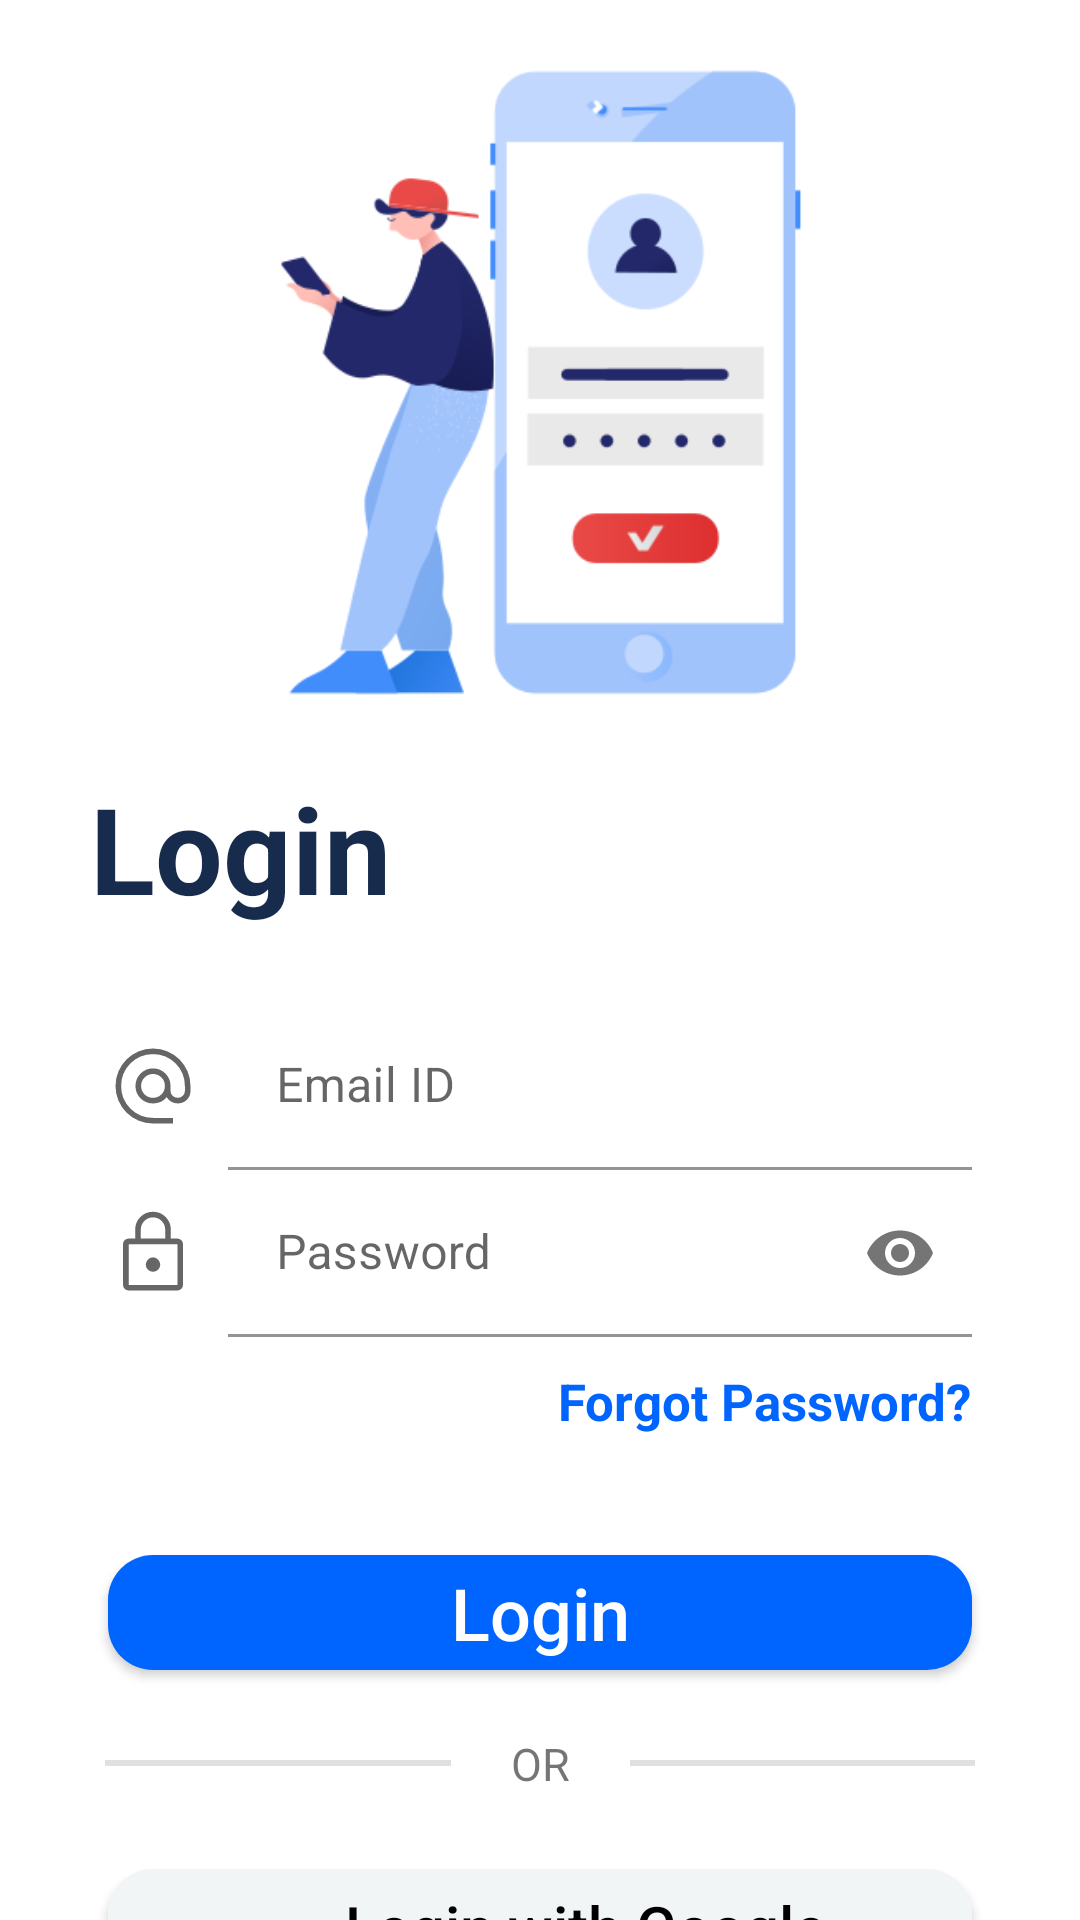

Icons on this 1080px×1920px Android screen, each with the point to tap as (x=x, y=y):
alternate email: (x=153, y=1086)
lock: (x=153, y=1251)
